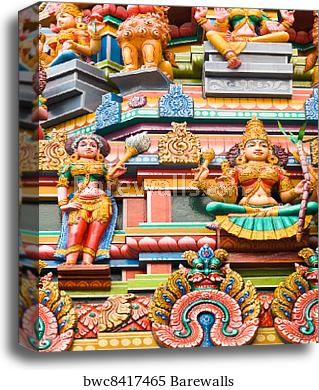Hindu Temple: (45, 12, 318, 333)
